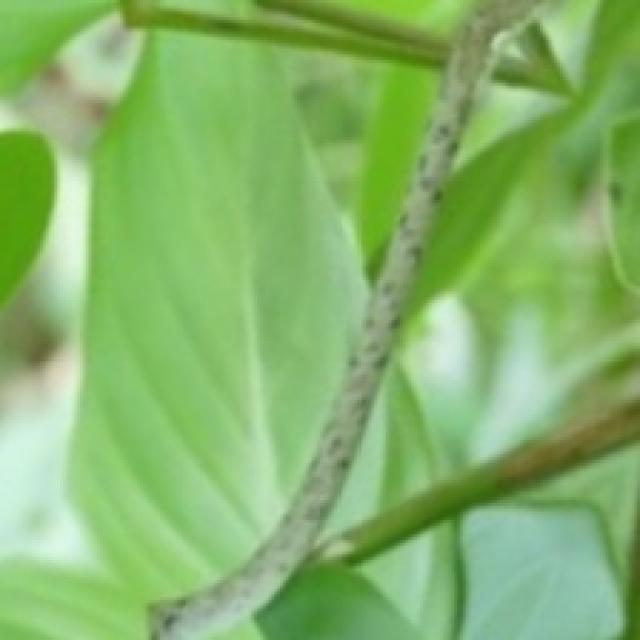philippine whip snake: (151, 0, 537, 637)
